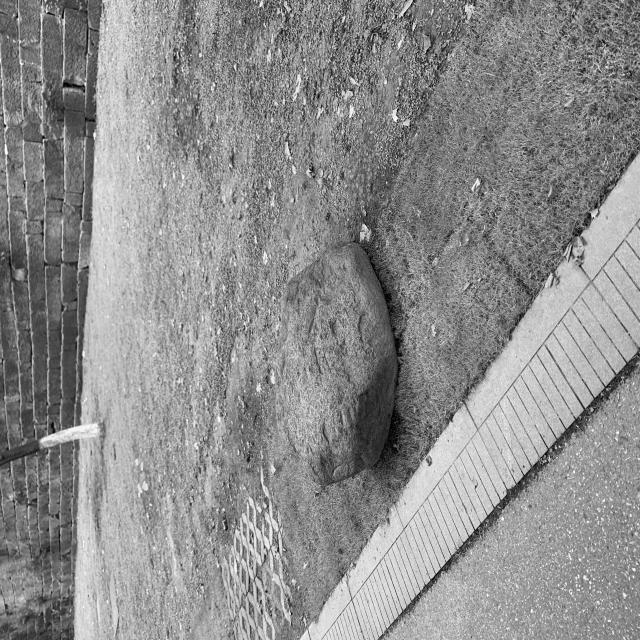Stone: (276, 242, 398, 484)
